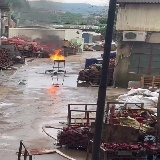fire: (49, 49, 65, 60)
